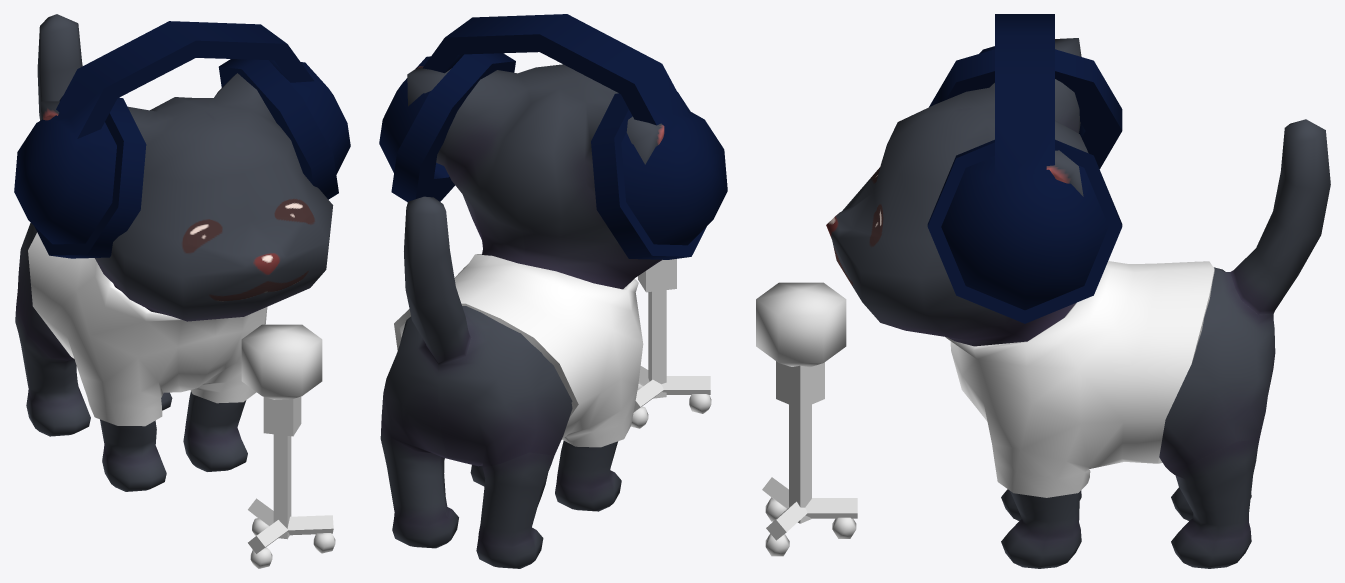
The model's file is Broadcaster Cat03.fbx.
3 renders of one model, left to right at view 1: azimuth 30°, elevation 25°; view 2: azimuth 150°, elevation 25°; view 3: azimuth 270°, elevation 25°, orthographic. The views are drawn at different scales.
Parts seen in each view (by area): view 1: Cat_Base002, Broadcaster_Cat_Headphones, Broadcaster_Cat_Shirt, Broadcaster_Cat_Mic; view 2: Cat_Base002, Broadcaster_Cat_Headphones, Broadcaster_Cat_Shirt, Broadcaster_Cat_Mic; view 3: Cat_Base002, Broadcaster_Cat_Headphones, Broadcaster_Cat_Shirt, Broadcaster_Cat_Mic.
Part boxes in pixels (x1=…): Cat_Base002: x1=15, y1=14, x2=333, y2=491; Broadcaster_Cat_Headphones: x1=14, y1=21, x2=350, y2=258; Broadcaster_Cat_Shirt: x1=28, y1=232, x2=267, y2=426; Broadcaster_Cat_Mic: x1=241, y1=324, x2=335, y2=568; Cat_Base002: x1=380, y1=64, x2=664, y2=568; Broadcaster_Cat_Headphones: x1=379, y1=14, x2=727, y2=259; Broadcaster_Cat_Shirt: x1=394, y1=254, x2=643, y2=447; Broadcaster_Cat_Mic: x1=631, y1=259, x2=711, y2=428; Cat_Base002: x1=826, y1=38, x2=1330, y2=568; Broadcaster_Cat_Headphones: x1=927, y1=14, x2=1122, y2=323; Broadcaster_Cat_Shirt: x1=945, y1=261, x2=1214, y2=497; Broadcaster_Cat_Mic: x1=756, y1=282, x2=857, y2=556.
Size of the model in its own units: 2.24 by 3.22 by 3.1.
3 materials, 1 textured.
